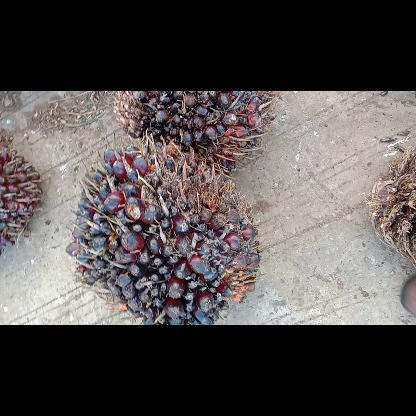TBS mentah: (66, 140, 262, 324), (112, 91, 276, 177), (0, 146, 42, 254)
